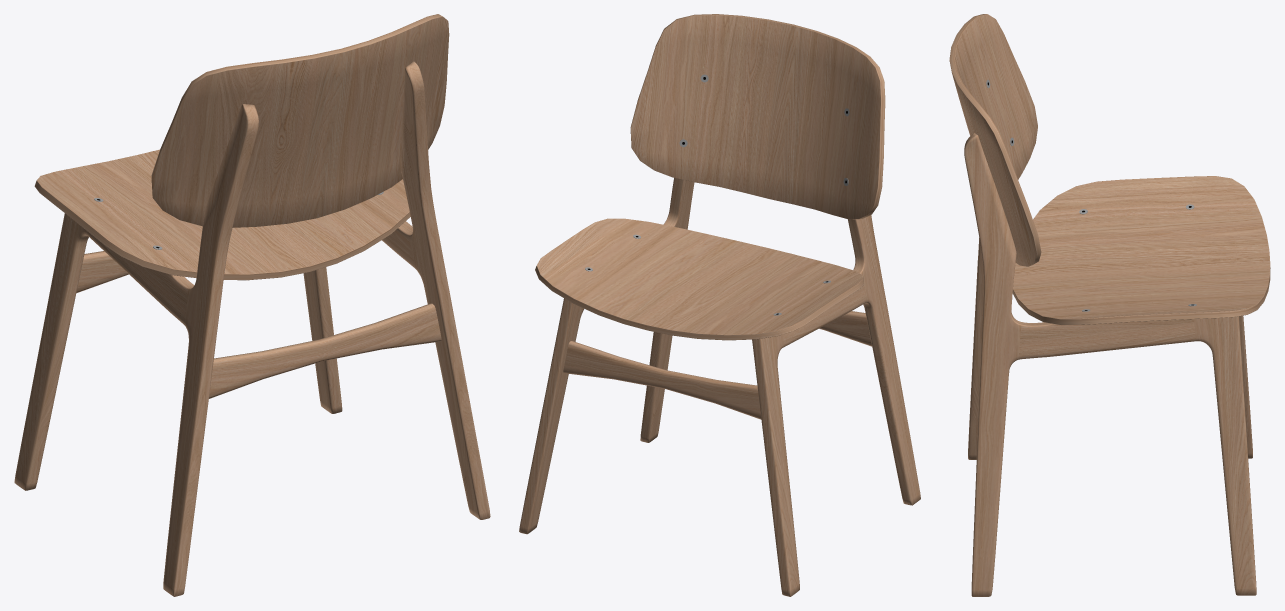
Rendered from Chair3.fbx.
3 renders of one model, left to right at view 1: azimuth 30°, elevation 25°; view 2: azimuth 150°, elevation 25°; view 3: azimuth 270°, elevation 25°, orthographic. The views are drawn at different scales.
Parts seen in each view (by area): view 1: Plane.001_chair_0, Cube_chair_0, Plane_chair_0, Cube.002_chair_0, Cube.001_chair_0; view 2: Plane.001_chair_0, Plane_chair_0, Cube_chair_0, Cube.001_chair_0, Cube.002_chair_0; view 3: Plane_chair_0, Cube_chair_0, Plane.001_chair_0.
Part boxes in pixels (bbox=[...]): Plane.001_chair_0: bbox=[151, 14, 449, 227]; Cube_chair_0: bbox=[14, 61, 490, 596]; Plane_chair_0: bbox=[34, 149, 410, 280]; Cube.002_chair_0: bbox=[209, 303, 441, 398]; Cube.001_chair_0: bbox=[76, 251, 128, 292]; Plane.001_chair_0: bbox=[630, 14, 885, 219]; Plane_chair_0: bbox=[535, 218, 864, 340]; Cube_chair_0: bbox=[519, 178, 920, 596]; Cube.001_chair_0: bbox=[563, 341, 761, 419]; Cube.002_chair_0: bbox=[819, 311, 871, 346]; Plane_chair_0: bbox=[1012, 176, 1270, 324]; Cube_chair_0: bbox=[964, 133, 1256, 596]; Plane.001_chair_0: bbox=[949, 14, 1041, 266].
Bounding box in the file's own units: 344 × 525 × 326.
